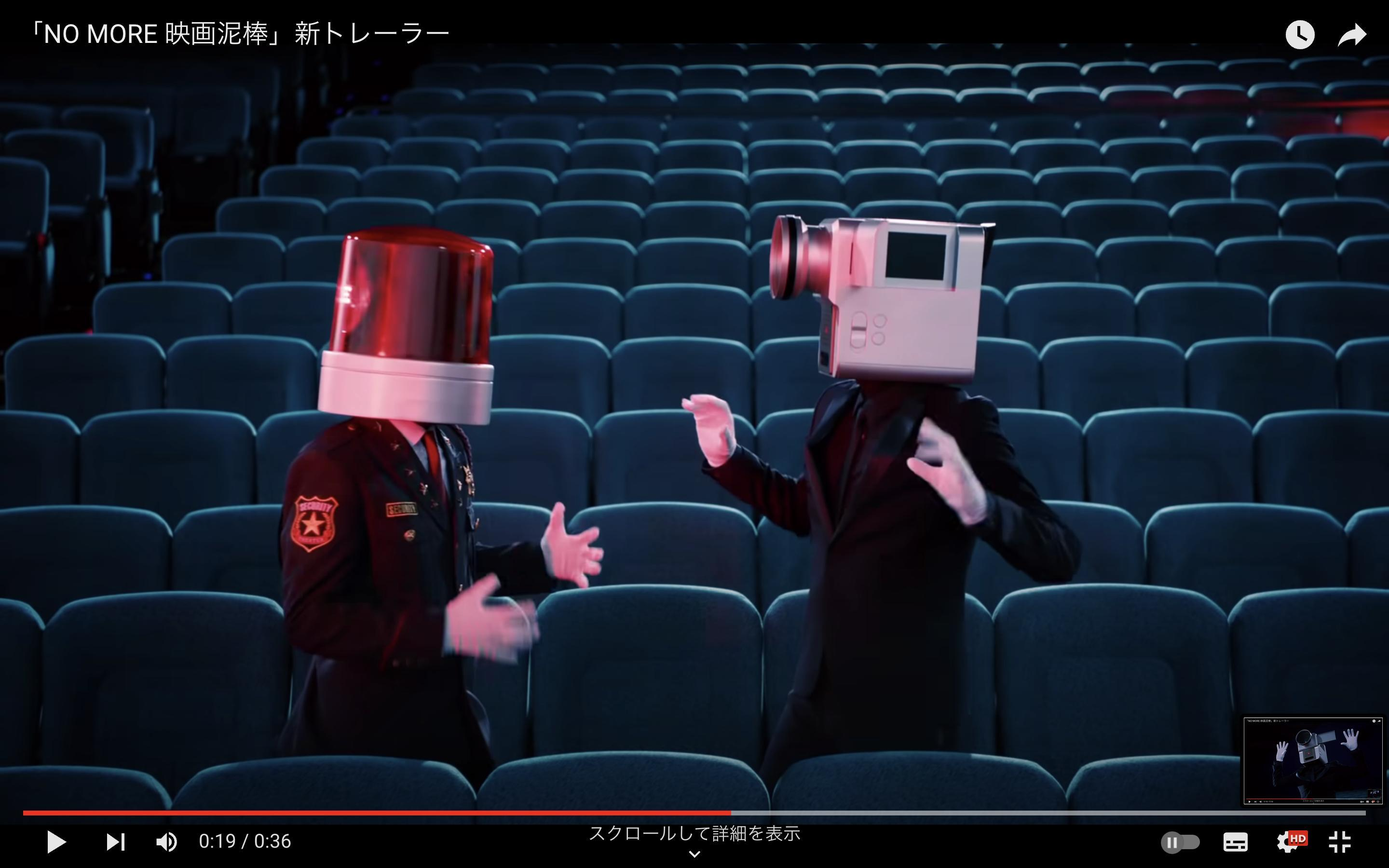no more kid: (765, 213, 994, 380)
